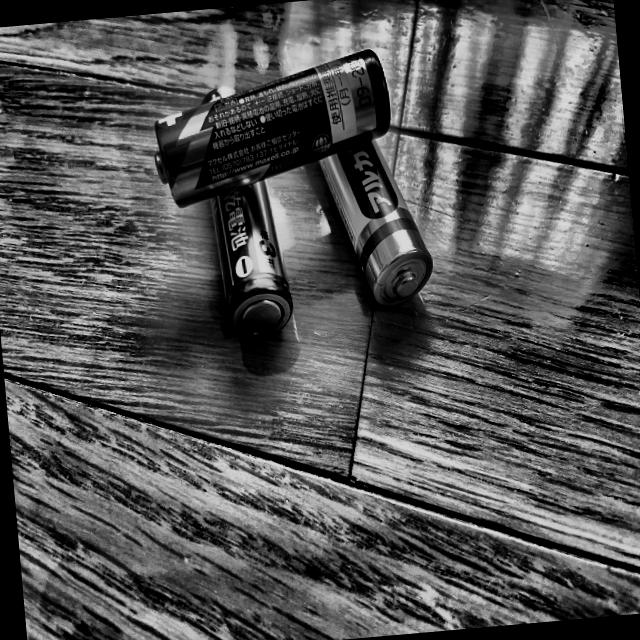drycell: (140, 45, 402, 216), (187, 78, 301, 344)
